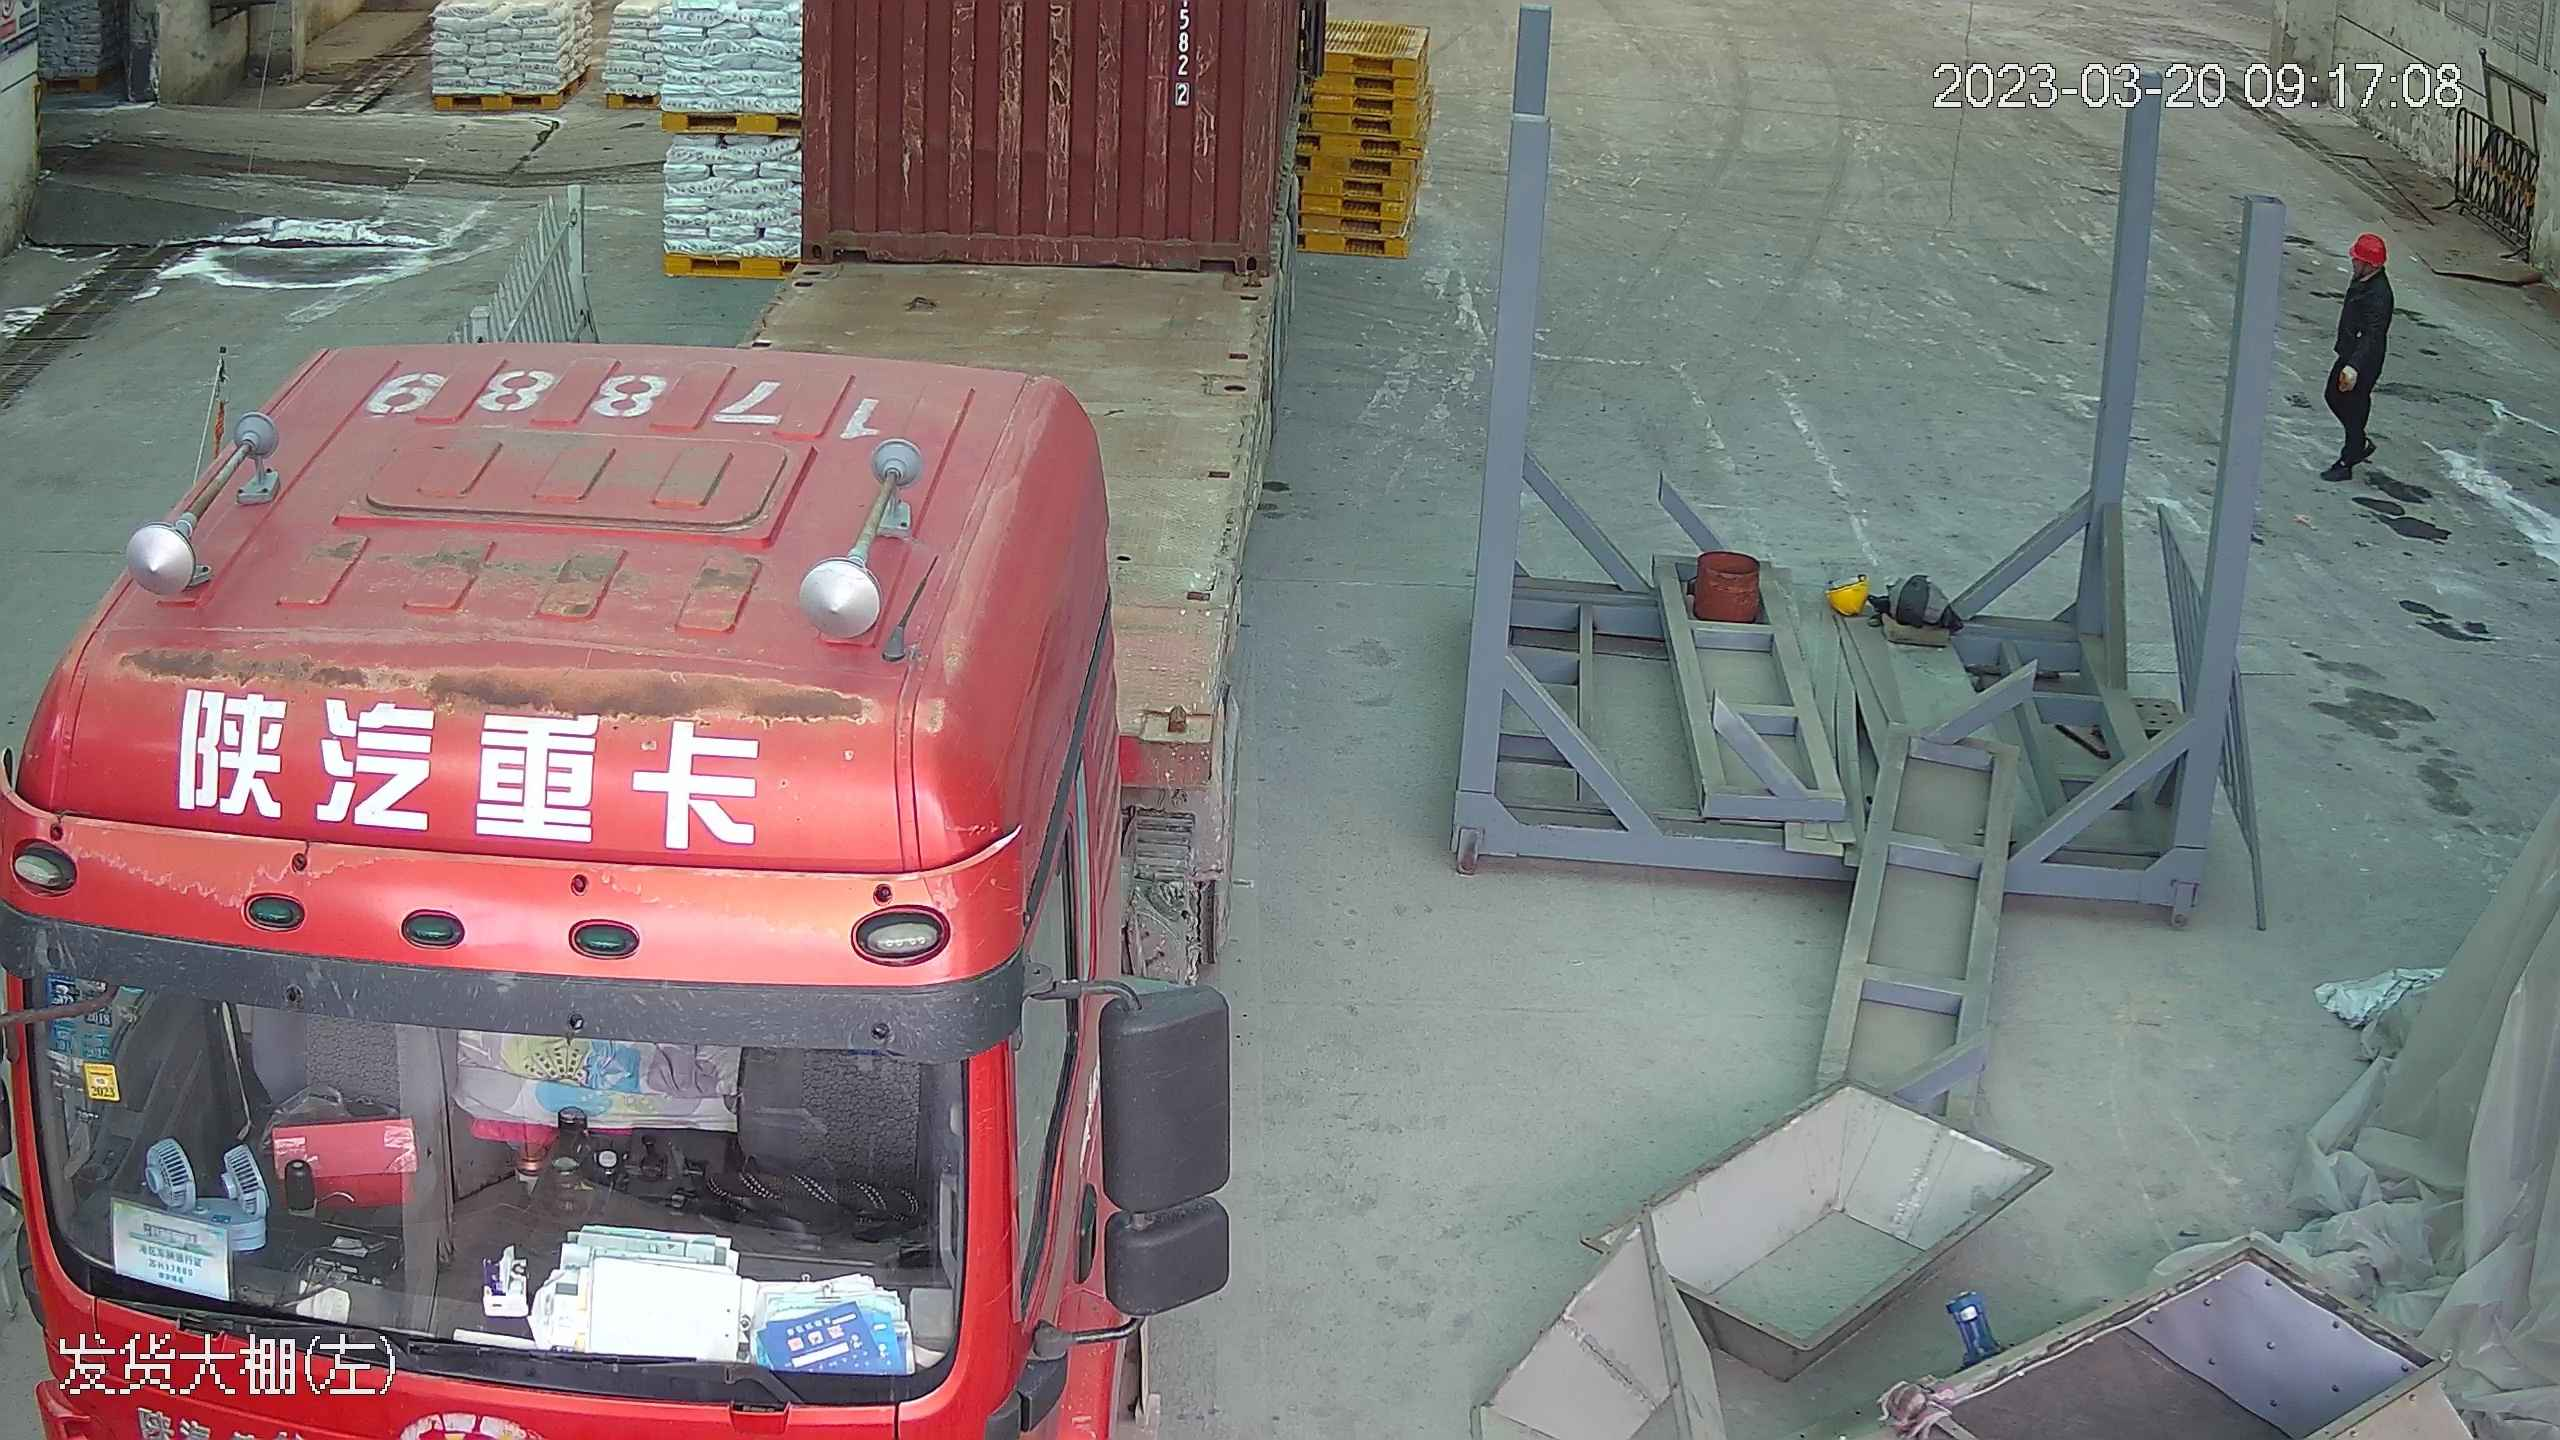head: (2339, 228, 2395, 312)
helmet: (2349, 232, 2392, 271)
people: (2315, 226, 2394, 485)
truck: (7, 7, 1283, 1440)
